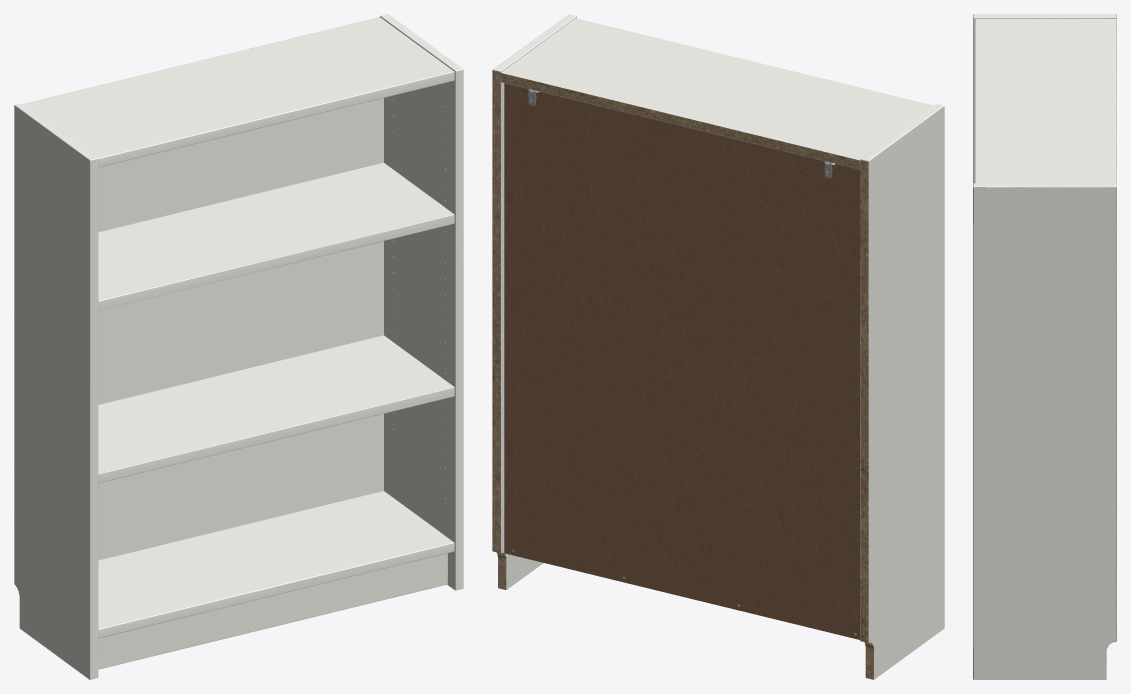
Rendered from billy_rega_30263844.glb.
The picture shows the model from 3 angles, left to right: view 1: azimuth 30°, elevation 25°; view 2: azimuth 150°, elevation 25°; view 3: azimuth 270°, elevation 25°; orthographic projection. The views are drawn at different scales.
Parts seen in each view (by area): view 1: billy_rega_30263844; view 2: billy_rega_30263844; view 3: billy_rega_30263844.
Part boxes in pixels (x1,y1,x2,y2): billy_rega_30263844: (14,14,463,679); billy_rega_30263844: (492,14,944,679); billy_rega_30263844: (973,14,1116,679).
Bounding box in the file's own units: 0.7982 × 1.06 × 0.28.
1 material, 1 textured.
